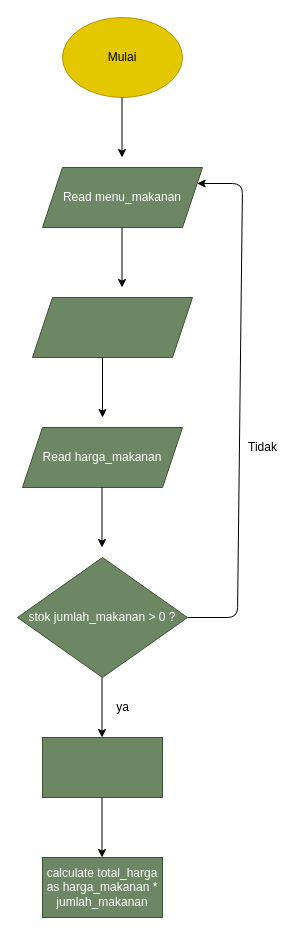
Image size: 300x935. Some labels were removed from this diagram. The shapes that lost their labels are listed below. From the top down, each one's centre as x and y in pixels, then its label:
At [112,327]: "Read jumlah_makanan".
At [102,767]: "Proses Pembayaran".
